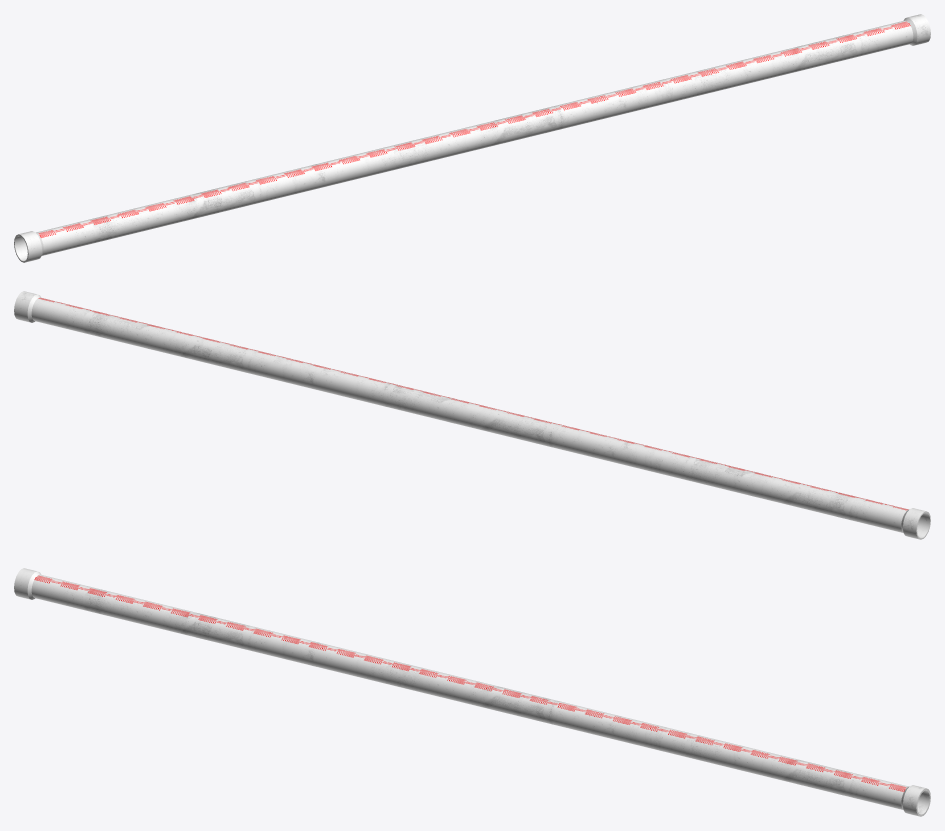
File: Pipa Plastik.fbx
3 views of the same model, one above another, from view 1: azimuth 30°, elevation 25°; view 2: azimuth 150°, elevation 25°; view 3: azimuth 330°, elevation 25° (orthographic).
Parts seen in each view (by area): view 1: Pipa Plastik; view 2: Pipa Plastik; view 3: Pipa Plastik.
Part boxes in pixels (left/top/right/bottom): Pipa Plastik: left=14, top=14, right=930, bottom=262; Pipa Plastik: left=14, top=291, right=930, bottom=539; Pipa Plastik: left=14, top=568, right=930, bottom=816.
Size of the model in its own units: 109 by 3.05 by 3.05.
1 material, 1 textured.
